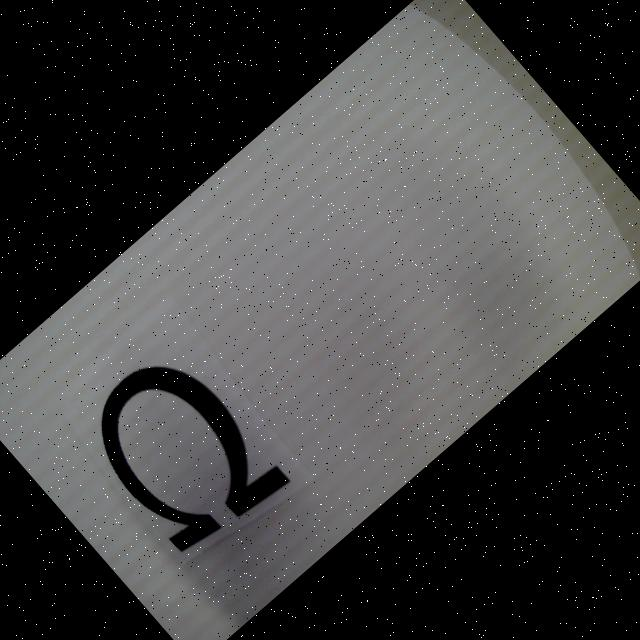OMEGA: (70, 340, 292, 566)
